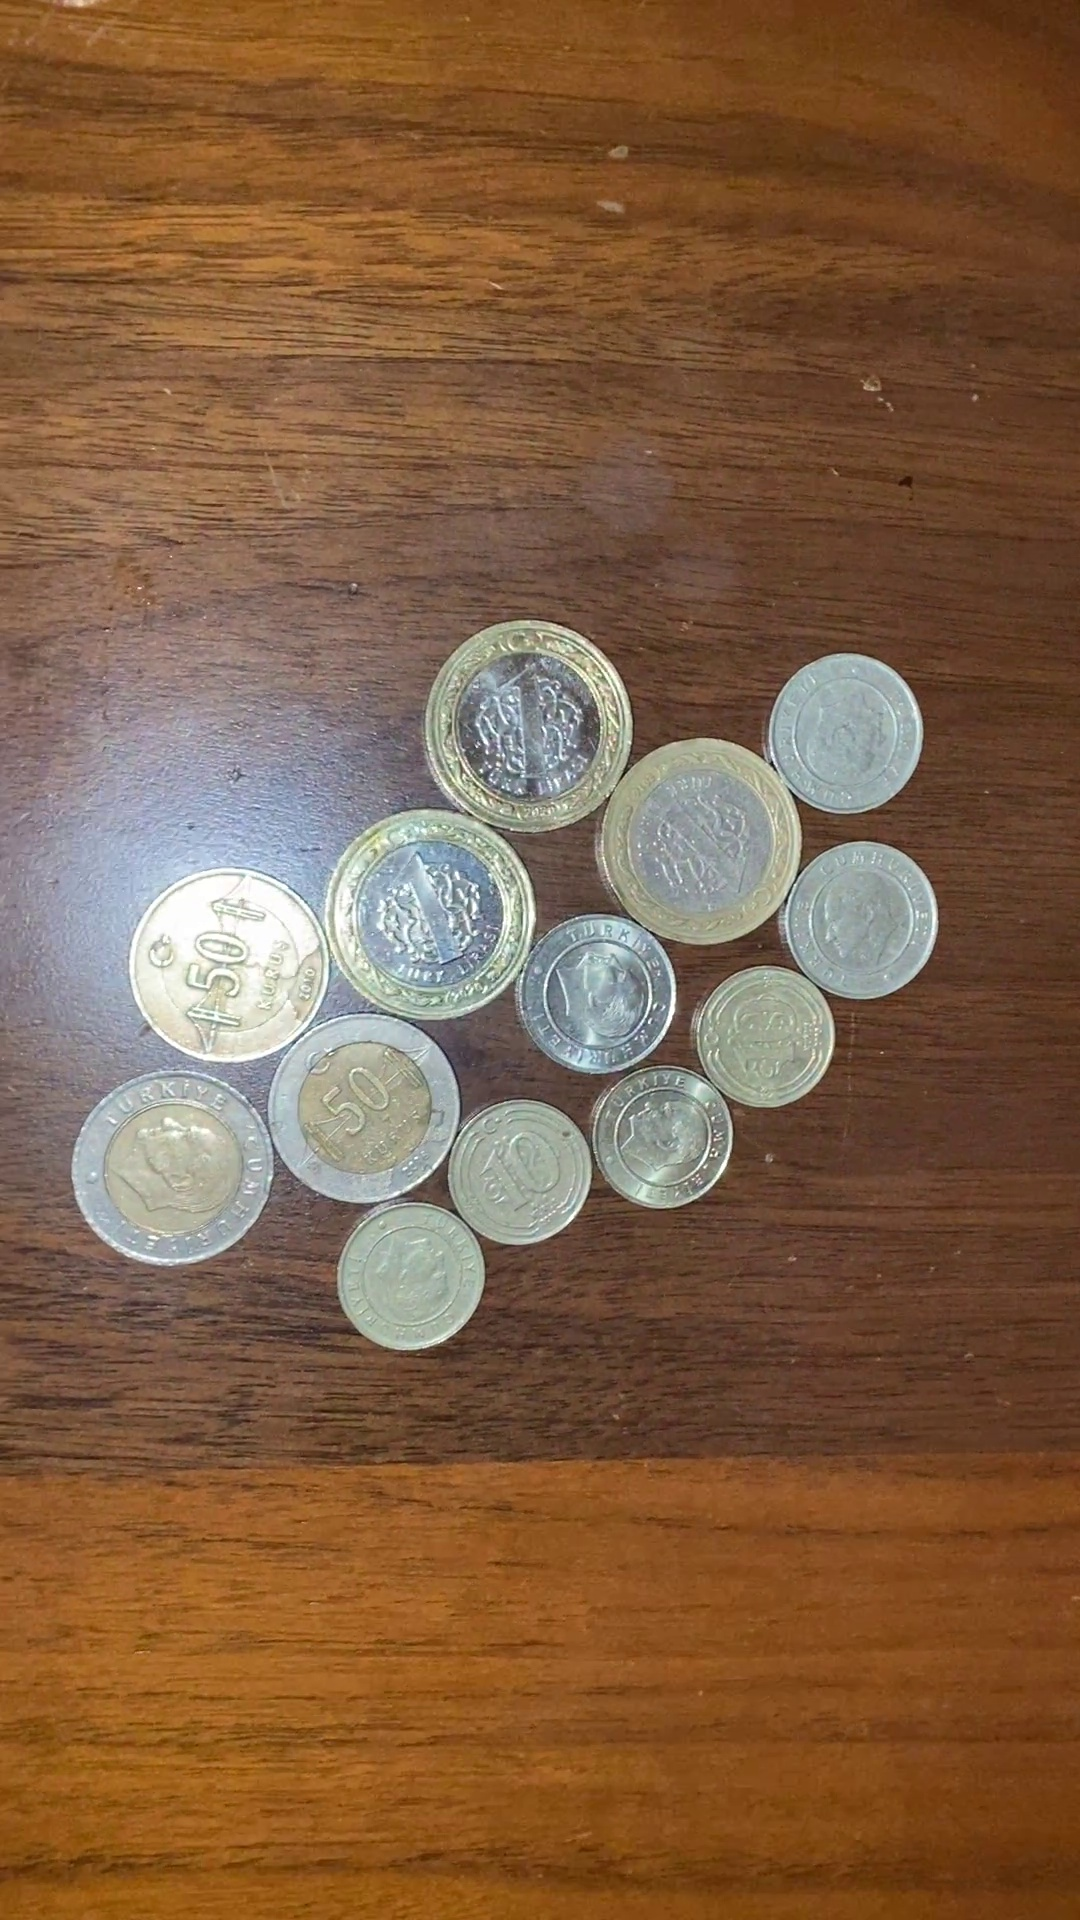1_tl: (587, 736, 808, 948), (423, 622, 641, 837), (324, 806, 541, 1021)
